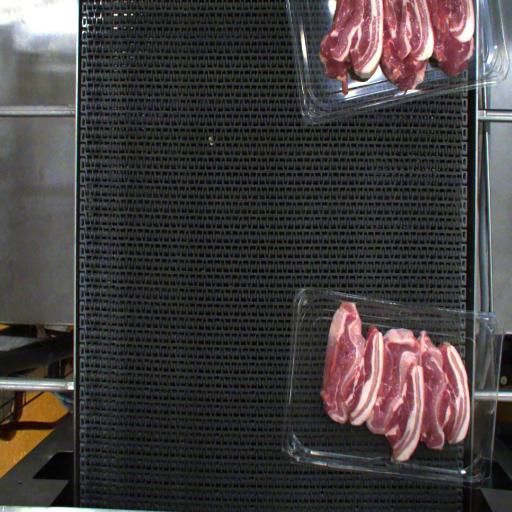packaging-error: (336, 284, 358, 318)
